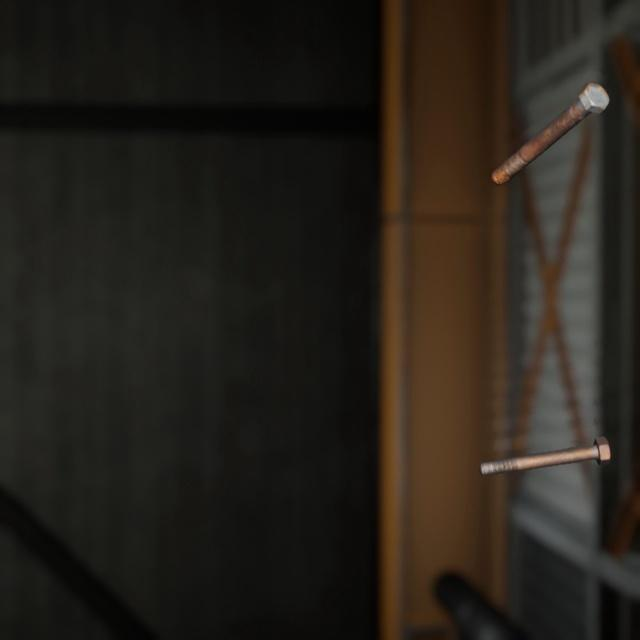bolt: (486, 64, 613, 177), (474, 411, 615, 459)
